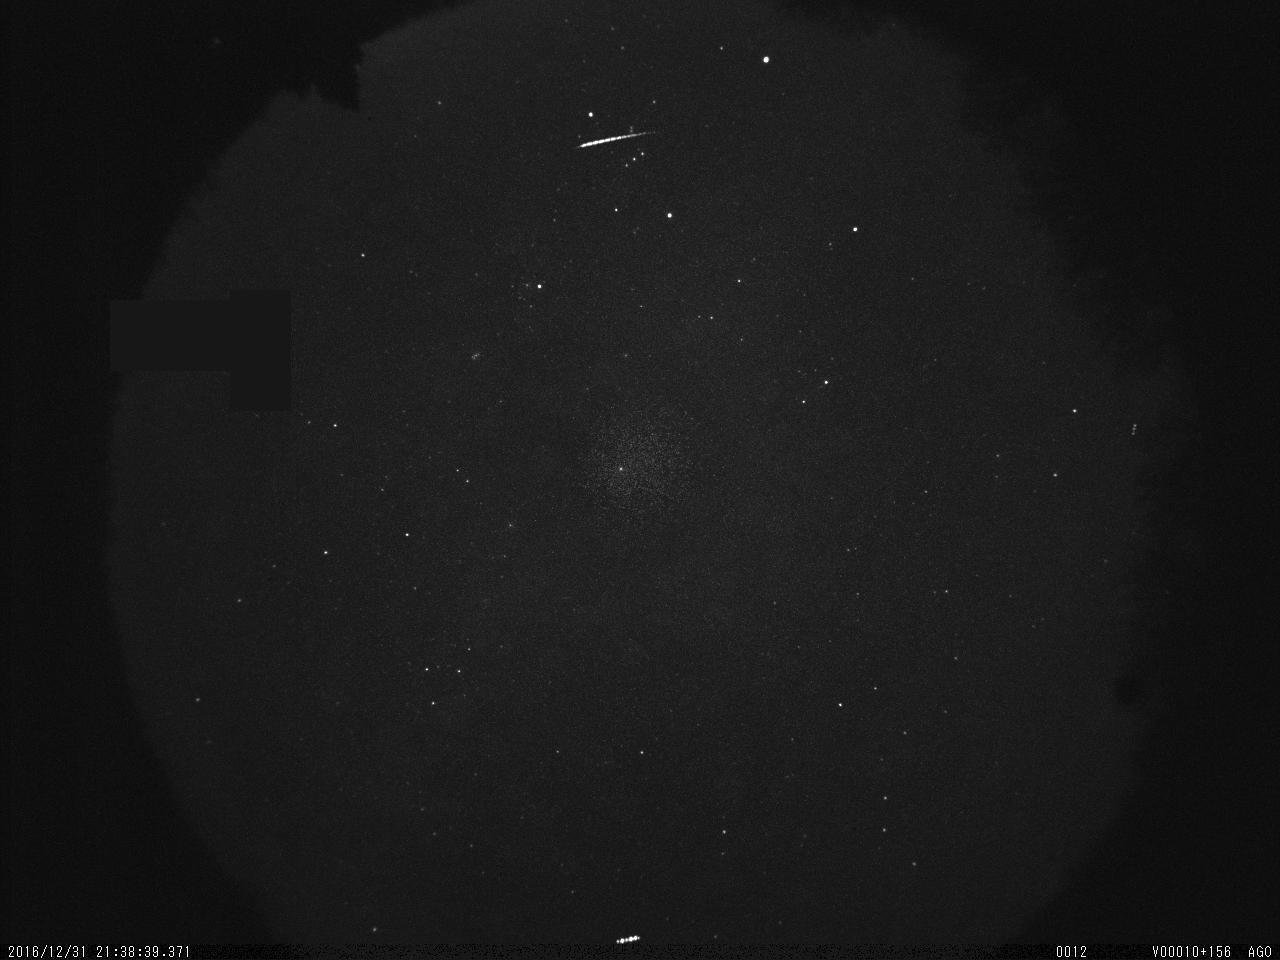Meteor: (579, 126, 651, 149)
